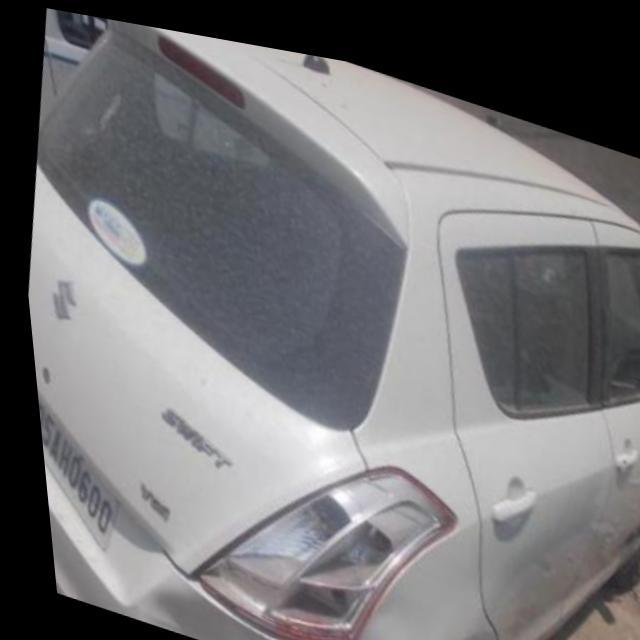dislocated part: (286, 634, 345, 640)
